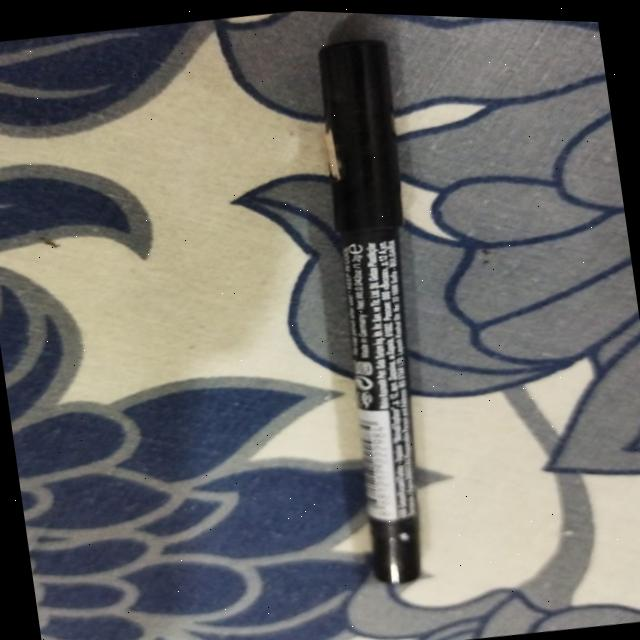eye liner: (250, 7, 510, 624)
